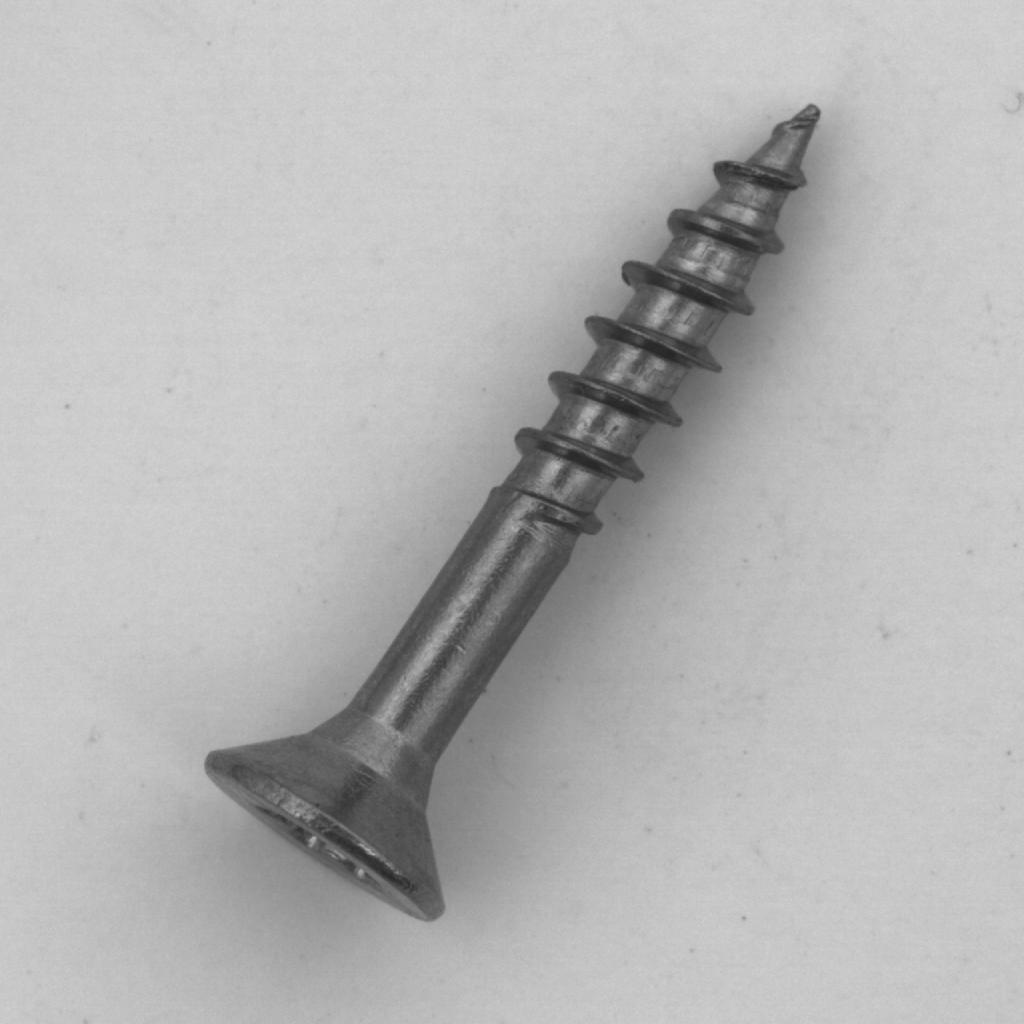good: (183, 86, 837, 943)
